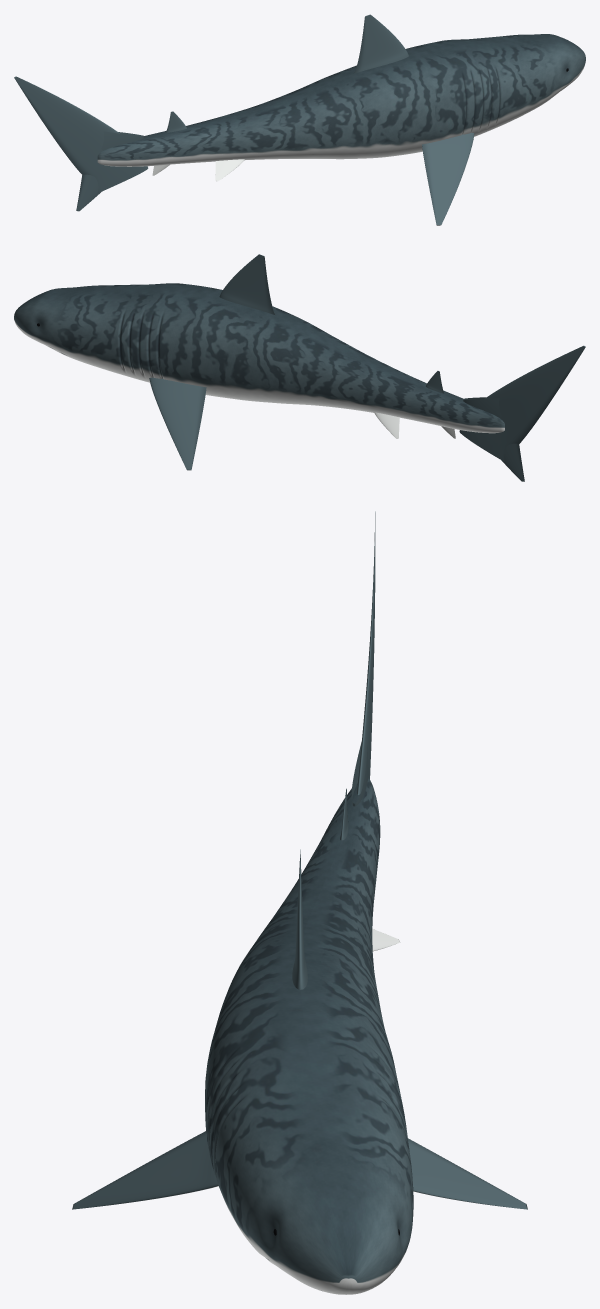
File: tiger_shark.glb
3 views of the same model, one above another, from view 1: azimuth 30°, elevation 25°; view 2: azimuth 150°, elevation 25°; view 3: azimuth 270°, elevation 25° (orthographic). The views are drawn at different scales.
Visible parts, largest first — view 1: TigerShark_Body, TigerShark_Fins; view 2: TigerShark_Body, TigerShark_Fins; view 3: TigerShark_Body, TigerShark_Fins.
Part boxes in pixels (x1,y1,x2,y2): TigerShark_Body: (97, 34, 585, 166); TigerShark_Fins: (14, 14, 474, 225); TigerShark_Body: (14, 283, 504, 433); TigerShark_Fins: (149, 254, 585, 481); TigerShark_Body: (205, 778, 413, 1294); TigerShark_Fins: (72, 511, 527, 1209).
Size of the model in its own units: 3.9 by 1.18 by 1.37.
Materials: 3 (1 with a texture image).
